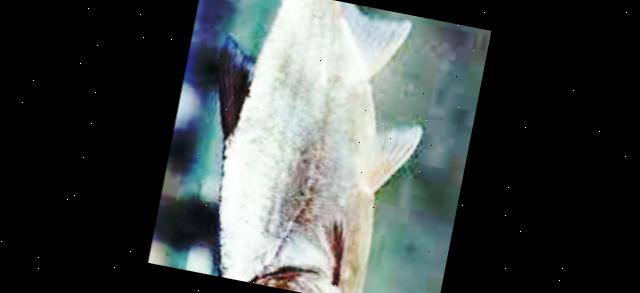Healthy Fish: (213, 0, 421, 293)
